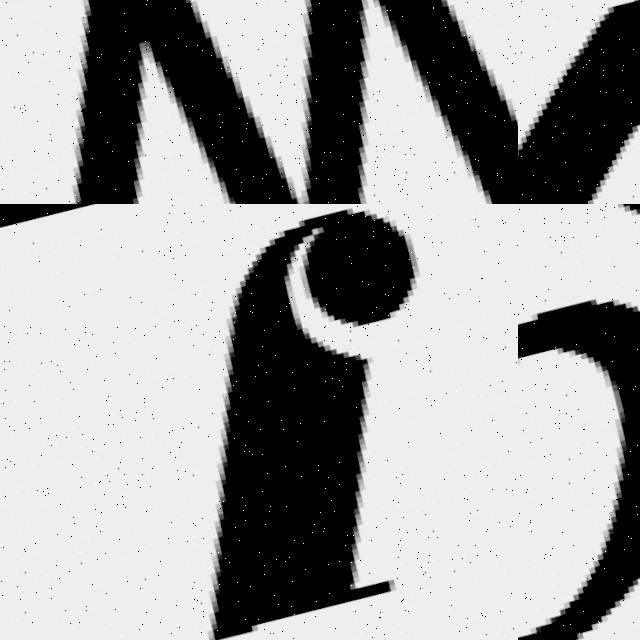9: (518, 204, 640, 640)
J: (55, 204, 518, 640)
V: (518, 0, 640, 204)
W: (0, 0, 518, 204)
